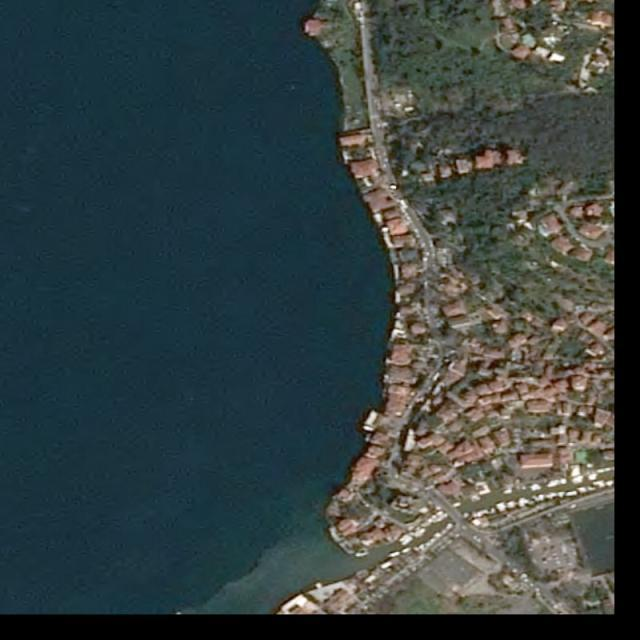ship: (362, 408, 384, 434), (365, 433, 372, 444)
